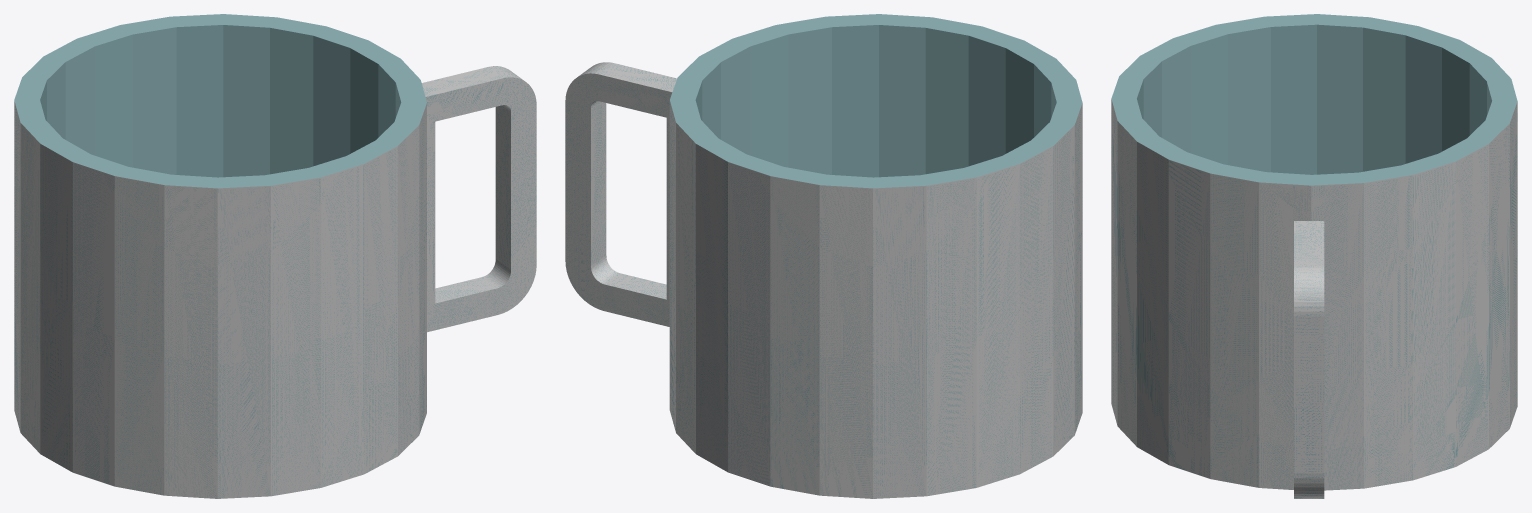
3 renders of one model, left to right at view 1: azimuth 30°, elevation 25°; view 2: azimuth 150°, elevation 25°; view 3: azimuth 270°, elevation 25°, orthographic.
Parts seen in each view (by area): view 1: mesh1_mesh1-geometry; view 2: mesh1_mesh1-geometry; view 3: mesh1_mesh1-geometry.
Boxes of the visible parts, x1=… form: mesh1_mesh1-geometry: x1=14, y1=14, x2=536, y2=498; mesh1_mesh1-geometry: x1=565, y1=14, x2=1082, y2=498; mesh1_mesh1-geometry: x1=1111, y1=14, x2=1517, y2=498.
Bounding box in the file's own units: 0.7217 × 0.4421 × 0.5326.
